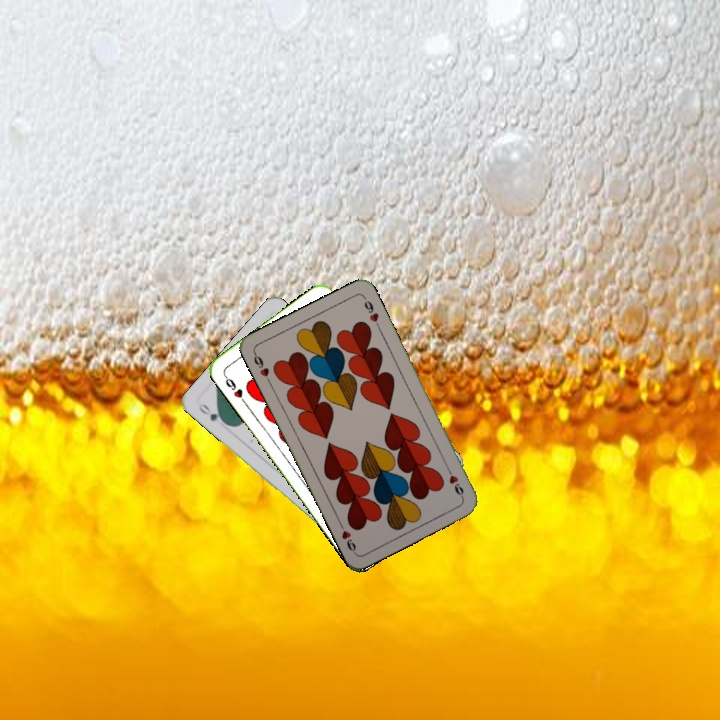GO: (194, 400, 230, 428)
H9: (220, 370, 248, 405), (442, 462, 466, 500), (250, 348, 273, 386)
